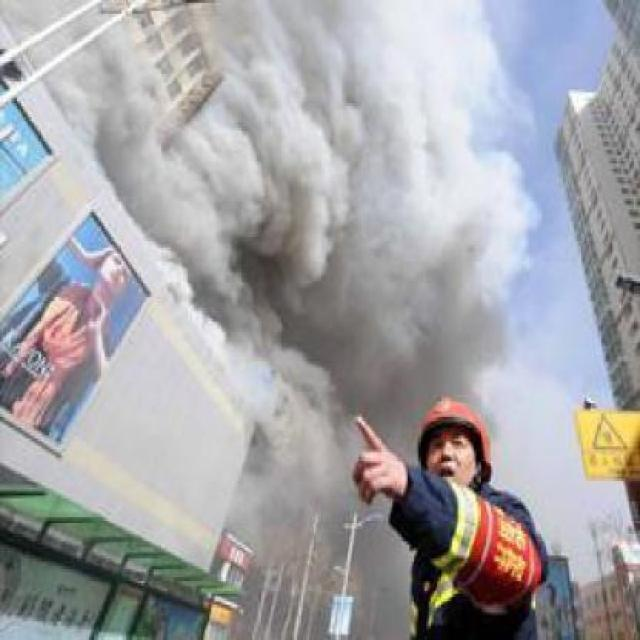Smoke: (1, 1, 538, 640)
